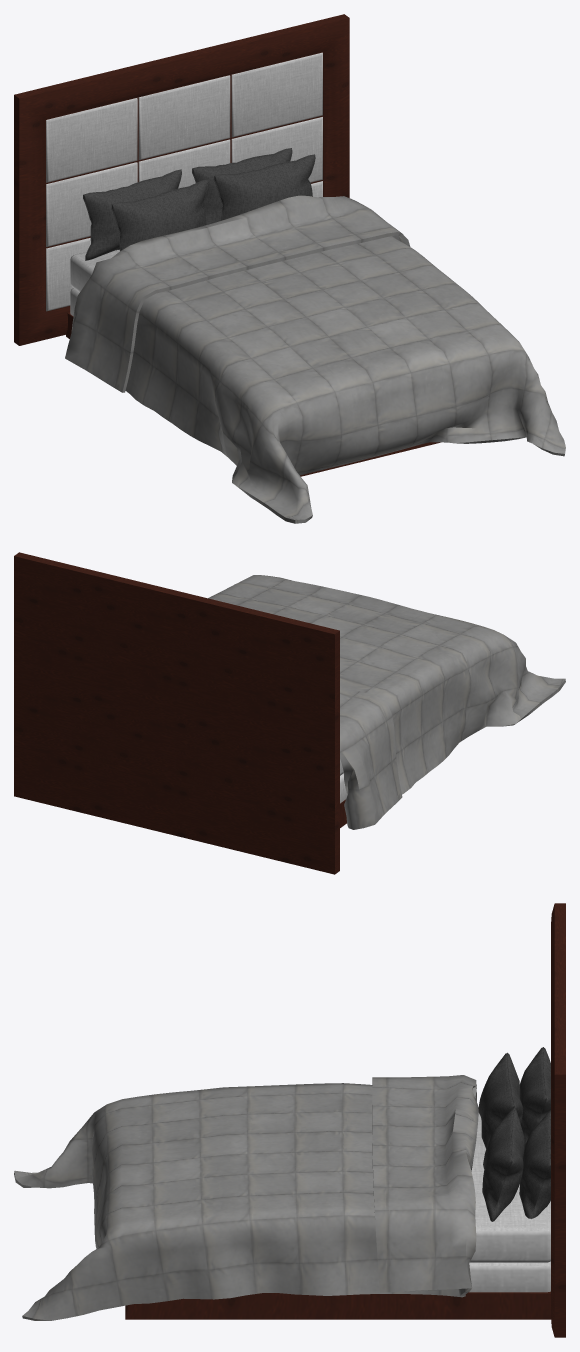
Rendered from Beds_Grey_Bed.fbx.
The picture shows the model from 3 angles, top to bottom: view 1: azimuth 30°, elevation 25°; view 2: azimuth 150°, elevation 25°; view 3: azimuth 270°, elevation 25°; orthographic projection. The views are drawn at different scales.
Visible parts, largest first — view 1: Cube.225; view 2: Cube.225; view 3: Cube.225.
Part boxes in pixels (x1,y1,x2,y2): Cube.225: (14,14,565,523); Cube.225: (14,552,565,874); Cube.225: (14,903,565,1337).
Bounding box in the file's own units: 300 × 214 × 403.
